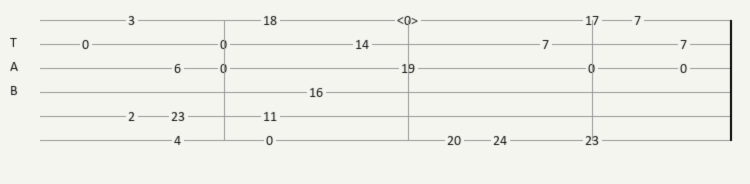0: (82, 38, 93, 51), (220, 38, 231, 51), (220, 62, 231, 75), (266, 134, 277, 147), (588, 62, 599, 75), (680, 62, 691, 75)
11: (263, 110, 281, 123)
14: (355, 38, 373, 51)
16: (309, 86, 327, 99)
17: (585, 14, 603, 27)
18: (263, 14, 281, 27)
19: (401, 62, 419, 75)
2: (128, 110, 139, 123)
20: (447, 134, 465, 147)
23: (171, 110, 189, 123), (585, 134, 603, 147)
24: (493, 134, 511, 147)
3: (128, 14, 139, 27)
4: (174, 134, 185, 147)
6: (174, 62, 185, 75)
7: (542, 38, 553, 51), (634, 14, 645, 27), (680, 38, 691, 51)
harmonic: (397, 14, 422, 27)
